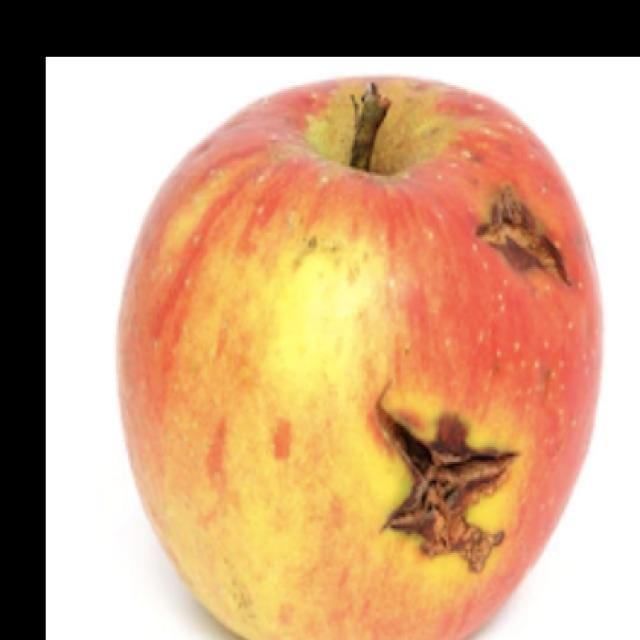Rotten: (138, 78, 615, 640)
